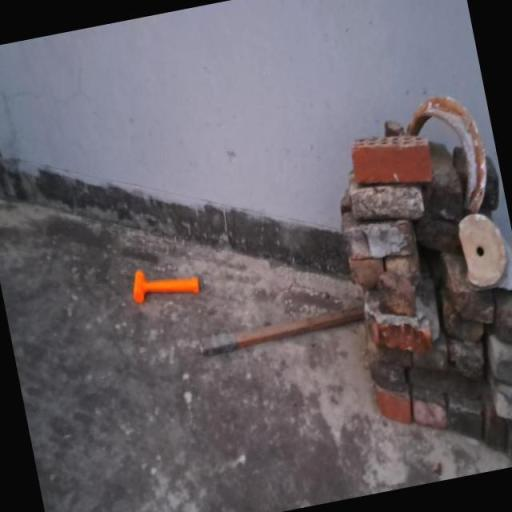mallet: (130, 259, 202, 308)
